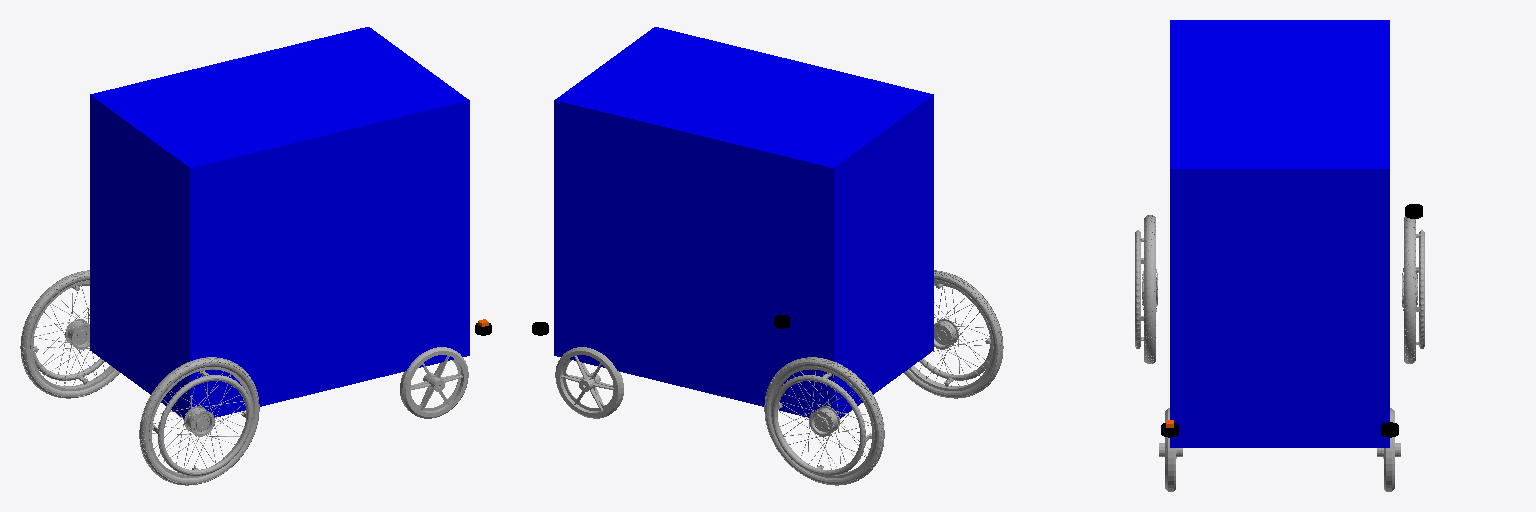
URDF robot description (gk01):
<?xml version="1.0" ?>
<!-- =================================================================================== -->
<!-- |    This document was autogenerated by xacro from src/swc_nav_bringup/urdf/gkchair01_base.urdf | -->
<!-- |    EDITING THIS FILE BY HAND IS NOT RECOMMENDED                                 | -->
<!-- =================================================================================== -->
<robot name="gk01">
  <!-- <xacro:property name="wheel_joint_type" value="continuous" /> -->
  <!-- *********************** DRIVE WHEELS ******************************  -->
  <!-- Init colour -->
  <material name="black">
    <color rgba="0.0 0.0 0.0 1.0"/>
  </material>
  <material name="dark">
    <color rgba="0.3 0.3 0.3 1.0"/>
  </material>
  <material name="light_black">
    <color rgba="0.7 0.7 0.7 1.0"/>
  </material>
  <material name="blue">
    <color rgba="0.0 0.0 0.8 1.0"/>
  </material>
  <material name="light_blue">
    <color rgba="0.0 0.0 1.0 0.5"/>
  </material>
  <material name="green">
    <color rgba="0.0 0.8 0.0 1.0"/>
  </material>
  <material name="grey">
    <color rgba="0.5 0.5 0.5 1.0"/>
  </material>
  <material name="orange">
    <color rgba="1.0 0.4235 0.0392 1.0"/>
  </material>
  <material name="brown">
    <color rgba="0.8706 0.8118 0.7647 1.0"/>
  </material>
  <material name="red">
    <color rgba="0.8 0.0 0.0 1.0"/>
  </material>
  <material name="white">
    <color rgba="1.0 1.0 1.0 1.0"/>
  </material>
  <!-- ************************************************************************************************************************** -->
  <!-- ************************************************************************************************************************** -->
  <!-- ************************************************************************************************************************** -->
  <!-- ************************************************************************************************************************** -->
  <link name="base_footprint"/>
  <joint name="base_joint" type="fixed">
    <parent link="base_footprint"/>
    <child link="base_link"/>
    <origin rpy="0 0 0" xyz="0 0 0.29500000000000004"/>
  </joint>
  <!-- base link -->
  <link name="base_link">
    <visual>
      <origin rpy="0 0 0" xyz="0  0 0.2"/>
      <geometry>
        <!-- <mesh filename="package://swc_nav_bringup/meshes/robot_base.STL" scale="1.0 1.0 1.0"/> -->
        <box size="0.8 0.5   0.7"/>
      </geometry>
      <material name="light_blue"/>
    </visual>
    <collision>
      <origin rpy="0 0 0" xyz="0 0 0"/>
      <geometry>
        <box size="0.8 0.5 0.3"/>
      </geometry>
    </collision>
    <inertial>
      <origin rpy="1.5707963267948966 0 1.5707963267948966" xyz="0 0 0"/>
      <mass value="20.0"/>
      <inertia ixx="1.8833333333333335" ixy="0.0" ixz="0.0" iyy="1.4833333333333336" iyz="0.0" izz="1.2333333333333334"/>
    </inertial>
  </link>
  <link name="left_wheel_link">
    <visual>
      <origin rpy="0 0 1.5707963267948966" xyz="0 0 0"/>
      <geometry>
        <mesh filename="package://swc_nav_bringup/meshes/wheel2.STL" scale="0.6181818181818182 0.6181818181818182 0.6181818181818182"/>
      </geometry>
      <material name="light_black"/>
    </visual>
    <collision>
      <origin rpy="1.5707963267948966 0 0" xyz="0 0 0"/>
      <geometry>
        <cylinder length="0.07" radius="0.17"/>
      </geometry>
    </collision>
    <inertial>
      <origin rpy="1.5707963267948966 0 0" xyz="0 0 0"/>
      <mass value="5.5"/>
      <inertia ixx="0.04198333333333334" ixy="-4.2369783e-11" ixz="0" iyy="0.04198333333333334" iyz="0" izz="0.07947500000000002"/>
    </inertial>
  </link>
  <joint name="left_wheel_joint" type="continuous">
    <parent link="base_link"/>
    <child link="left_wheel_link"/>
    <origin rpy="0 0 0" xyz="-0.4 0.295 -0.125"/>
    <axis xyz="0 1 0"/>
    <!-- <limit upper="3.1415" lower="-3.1415" effort="30" velocity="5.0"/> -->
  </joint>
  <gazebo reference="left_wheel_link">
    <material>Gazebo/Black</material>
    <mu1>2.0</mu1>
    <!-- 摩擦系数 -->
    <mu2>2.0</mu2>
  </gazebo>
  <link name="right_wheel_link">
    <visual>
      <origin rpy="0 0 -1.5707963267948966" xyz="0 0 0"/>
      <geometry>
        <mesh filename="package://swc_nav_bringup/meshes/wheel2.STL" scale="0.6181818181818182 0.6181818181818182 0.6181818181818182"/>
      </geometry>
      <material name="light_black"/>
    </visual>
    <collision>
      <origin rpy="1.5707963267948966 0 0" xyz="0 0 0"/>
      <geometry>
        <cylinder length="0.07" radius="0.17"/>
      </geometry>
    </collision>
    <inertial>
      <origin rpy="1.5707963267948966 0 0" xyz="0 0 0"/>
      <mass value="5.5"/>
      <inertia ixx="0.04198333333333334" ixy="-4.2369783e-11" ixz="0" iyy="0.04198333333333334" iyz="0" izz="0.07947500000000002"/>
    </inertial>
  </link>
  <joint name="right_wheel_joint" type="continuous">
    <parent link="base_link"/>
    <child link="right_wheel_link"/>
    <origin rpy="0 0 0" xyz="-0.4 -0.295 -0.125"/>
    <axis xyz="0 1 0"/>
    <!-- <limit upper="3.1415" lower="-3.1415" effort="30" velocity="5.0"/> -->
  </joint>
  <gazebo reference="right_wheel_link">
    <material>Gazebo/Black</material>
    <mu1>2.0</mu1>
    <!-- 摩擦系数 -->
    <mu2>2.0</mu2>
  </gazebo>
  <link name="left_small_wheel_link">
    <visual>
      <origin rpy="0 0 1.5707963267948966" xyz="0 0 0"/>
      <geometry>
        <mesh filename="package://swc_nav_bringup/meshes/small_wheel.STL" scale="0.9973753280839895 0.9973753280839895 0.9973753280839895"/>
      </geometry>
      <material name="light_black"/>
    </visual>
    <collision>
      <origin rpy="1.5707963267948966 0 0" xyz="0 0 0"/>
      <geometry>
        <cylinder length="0.04" radius="0.095"/>
      </geometry>
    </collision>
    <inertial>
      <origin rpy="1.5707963267948966 0 0" xyz="0 0 0"/>
      <mass value="1.5"/>
      <inertia ixx="0.0035843750000000003" ixy="-4.2369783e-11" ixz="0" iyy="0.0035843750000000003" iyz="0" izz="0.0067687500000000005"/>
    </inertial>
  </link>
  <joint name="left_small_wheel_joint" type="fixed">
    <parent link="base_link"/>
    <child link="left_small_wheel_link"/>
    <origin rpy="0 0 0" xyz="0.29999999999999993 0.248 -0.20000000000000004"/>
    <axis xyz="0 1 0"/>
    <limit effort="30" lower="-3.1415" upper="3.1415" velocity="5.0"/>
  </joint>
  <gazebo reference="left_small_wheel_link">
    <material>Gazebo/Black</material>
    <mu1>0.001</mu1>
    <!-- 摩擦系数 -->
    <mu2>0.001</mu2>
  </gazebo>
  <link name="right_small_wheel_link">
    <visual>
      <origin rpy="0 0 -1.5707963267948966" xyz="0 0 0"/>
      <geometry>
        <mesh filename="package://swc_nav_bringup/meshes/small_wheel.STL" scale="0.9973753280839895 0.9973753280839895 0.9973753280839895"/>
      </geometry>
      <material name="light_black"/>
    </visual>
    <collision>
      <origin rpy="1.5707963267948966 0 0" xyz="0 0 0"/>
      <geometry>
        <cylinder length="0.04" radius="0.095"/>
      </geometry>
    </collision>
    <inertial>
      <origin rpy="1.5707963267948966 0 0" xyz="0 0 0"/>
      <mass value="1.5"/>
      <inertia ixx="0.0035843750000000003" ixy="-4.2369783e-11" ixz="0" iyy="0.0035843750000000003" iyz="0" izz="0.0067687500000000005"/>
    </inertial>
  </link>
  <joint name="right_small_wheel_joint" type="fixed">
    <parent link="base_link"/>
    <child link="right_small_wheel_link"/>
    <origin rpy="0 0 0" xyz="0.29999999999999993 -0.248 -0.20000000000000004"/>
    <axis xyz="0 1 0"/>
    <limit effort="30" lower="-3.1415" upper="3.1415" velocity="5.0"/>
  </joint>
  <gazebo reference="right_small_wheel_link">
    <material>Gazebo/Black</material>
    <mu1>0.001</mu1>
    <!-- 摩擦系数 -->
    <mu2>0.001</mu2>
  </gazebo>
  <!-- laser joint -->
  <joint name="laser_joint" type="fixed">
    <parent link="base_link"/>
    <child link="laser_link"/>
    <origin xyz="0.44 -0.25 -0.08500000000000003"/>
  </joint>
  <!-- laser link -->
  <link name="laser_link">
    <visual>
      <origin rpy="0 0 0" xyz="0 0 0"/>
      <geometry>
        <cylinder length="0.02" radius="0.02"/>
      </geometry>
      <material name="black"/>
    </visual>
    <inertial>
      <origin rpy="1.5707963267948966 0 0" xyz="0 0 0"/>
      <mass value="0.02"/>
      <inertia ixx="2.6666666666666664e-06" ixy="-4.2369783e-11" ixz="0" iyy="2.6666666666666664e-06" iyz="0" izz="4.000000000000001e-06"/>
    </inertial>
  </link>
  <!-- imu joint -->
  <joint name="imu_joint" type="fixed">
    <parent link="laser_link"/>
    <child link="imu_link"/>
    <origin xyz="0 0 0.01"/>
  </joint>
  <link name="imu_link">
    <visual>
      <origin rpy="0 0 0" xyz="0 0 0.0"/>
      <geometry>
        <box size="0.02 0.02 0.02"/>
      </geometry>
      <material name="orange"/>
    </visual>
    <inertial>
      <origin rpy="1.5707963267948966 0 1.5707963267948966" xyz="0 0 0"/>
      <mass value="0.01"/>
      <inertia ixx="6.666666666666667e-07" ixy="0.0" ixz="0.0" iyy="6.666666666666667e-07" iyz="0.0" izz="6.666666666666667e-07"/>
    </inertial>
  </link>
  <joint name="laser_ms200_joint" type="fixed">
    <parent link="base_link"/>
    <child link="laser_ms200_link"/>
    <origin xyz="-0.285 0.305 0.125"/>
  </joint>
  <link name="laser_ms200_link">
    <visual>
      <origin rpy="0 0 0" xyz="0 0 0"/>
      <geometry>
        <cylinder length="0.02" radius="0.02"/>
      </geometry>
      <material name="black"/>
    </visual>
    <inertial>
      <origin rpy="1.5707963267948966 0 0" xyz="0 0 0"/>
      <mass value="0.02"/>
      <inertia ixx="2.6666666666666664e-06" ixy="-4.2369783e-11" ixz="0" iyy="2.6666666666666664e-06" iyz="0" izz="4.000000000000001e-06"/>
    </inertial>
  </link>
  <joint name="livox_frame_joint" type="fixed">
    <parent link="base_link"/>
    <child link="livox_frame"/>
    <origin xyz="0.44 0.25 -0.08500000000000003"/>
  </joint>
  <link name="livox_frame">
    <visual>
      <origin rpy="0 0 0" xyz="0 0 0"/>
      <geometry>
        <cylinder length="0.02" radius="0.02"/>
      </geometry>
      <material name="black"/>
    </visual>
    <inertial>
      <origin rpy="1.5707963267948966 0 0" xyz="0 0 0"/>
      <mass value="0.02"/>
      <inertia ixx="2.6666666666666664e-06" ixy="-4.2369783e-11" ixz="0" iyy="2.6666666666666664e-06" iyz="0" izz="4.000000000000001e-06"/>
    </inertial>
  </link>
</robot>

--- Facts derived from the render (not from the file) ---
The picture shows the robot from 3 angles, left to right: view 1: azimuth 30°, elevation 25°; view 2: azimuth 150°, elevation 25°; view 3: azimuth 270°, elevation 25°; orthographic projection.
Robot: gk01 — 10 links, 9 joints (2 continuous, 7 fixed); root link base_footprint; default pose: every joint at zero.
Links seen in each view (by area): view 1: base_link, right_wheel_link, left_wheel_link, right_small_wheel_link; view 2: base_link, left_wheel_link, right_wheel_link, left_small_wheel_link; view 3: base_link, right_wheel_link, left_wheel_link, left_small_wheel_link, right_small_wheel_link.
Link boxes in pixels (x1,y1,x2,y2): base_link: (90,27,469,418); right_wheel_link: (139,357,259,485); left_wheel_link: (20,270,119,398); right_small_wheel_link: (400,347,468,418); base_link: (554,27,933,418); left_wheel_link: (764,357,884,485); right_wheel_link: (904,270,1003,398); left_small_wheel_link: (555,347,623,418); base_link: (1170,20,1389,447); right_wheel_link: (1135,215,1157,363); left_wheel_link: (1402,216,1424,363); left_small_wheel_link: (1377,408,1400,491); right_small_wheel_link: (1159,408,1182,491).
Size in the robot's own frame: 1.03 by 0.6601 by 0.845 metres.
4 mesh visuals loaded from 2 distinct referenced files (2 binary STL).
